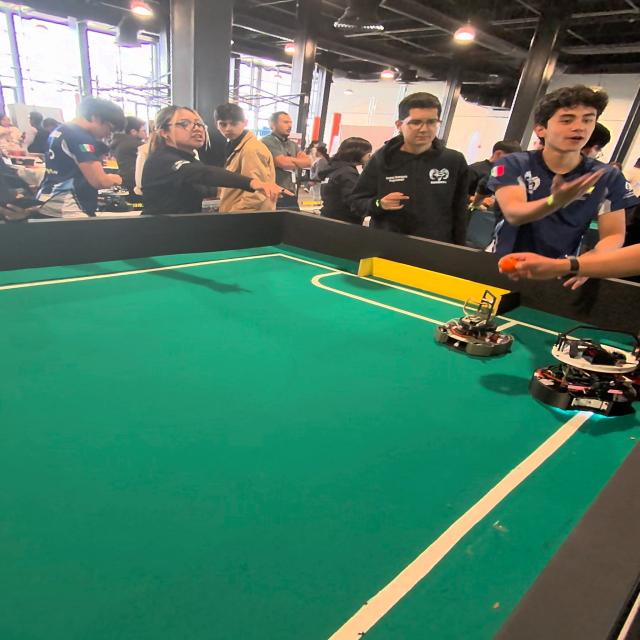Robot: (529, 324, 637, 421), (431, 289, 511, 363)
